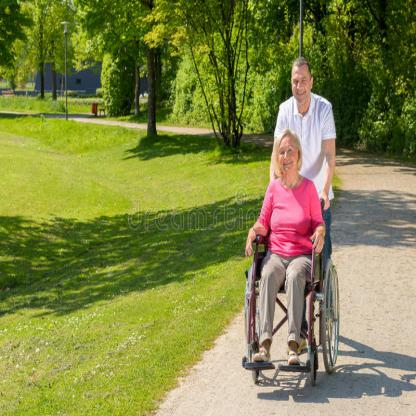wheelchair: (240, 130, 340, 388)
